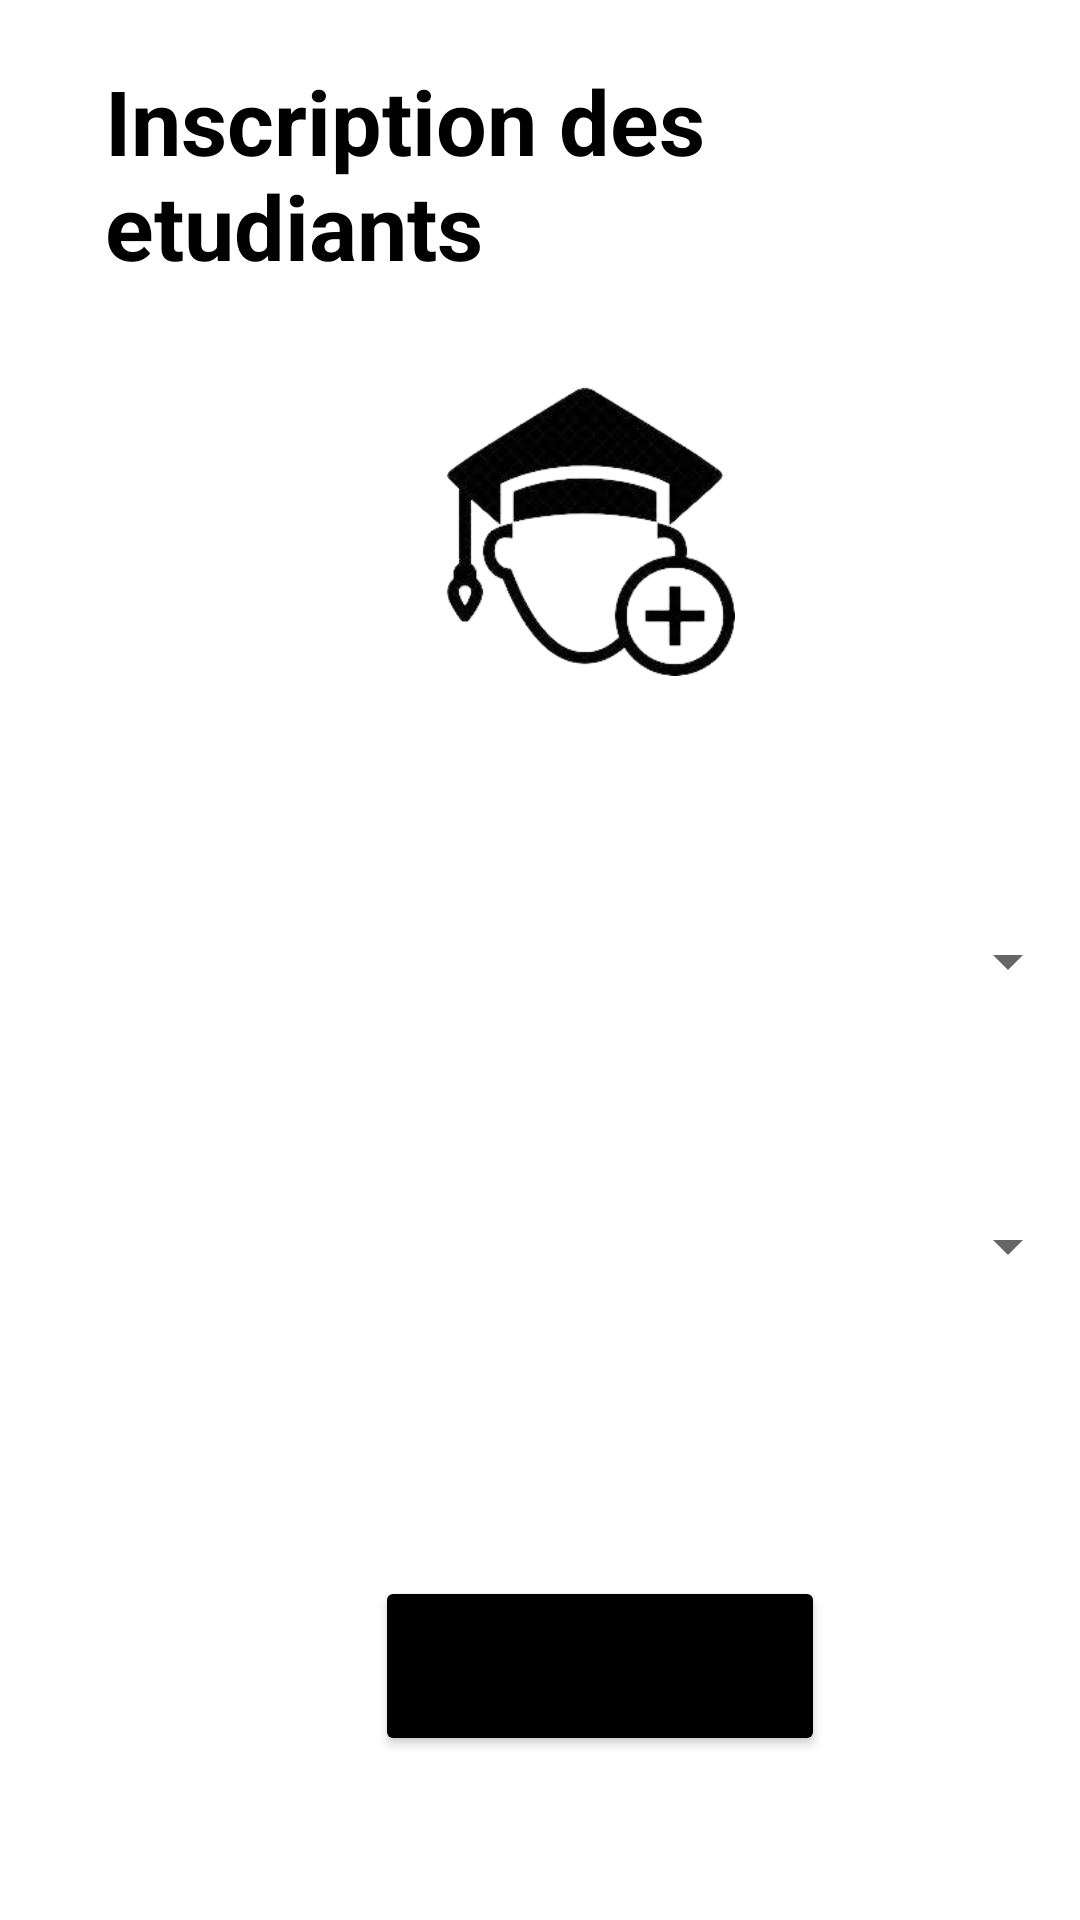

Icon bounding boxes for this 1080px×1920px phone screenshot, format bbox=[x1, y1, x2, y2]:
register etudiant: bbox=[447, 387, 735, 676]
